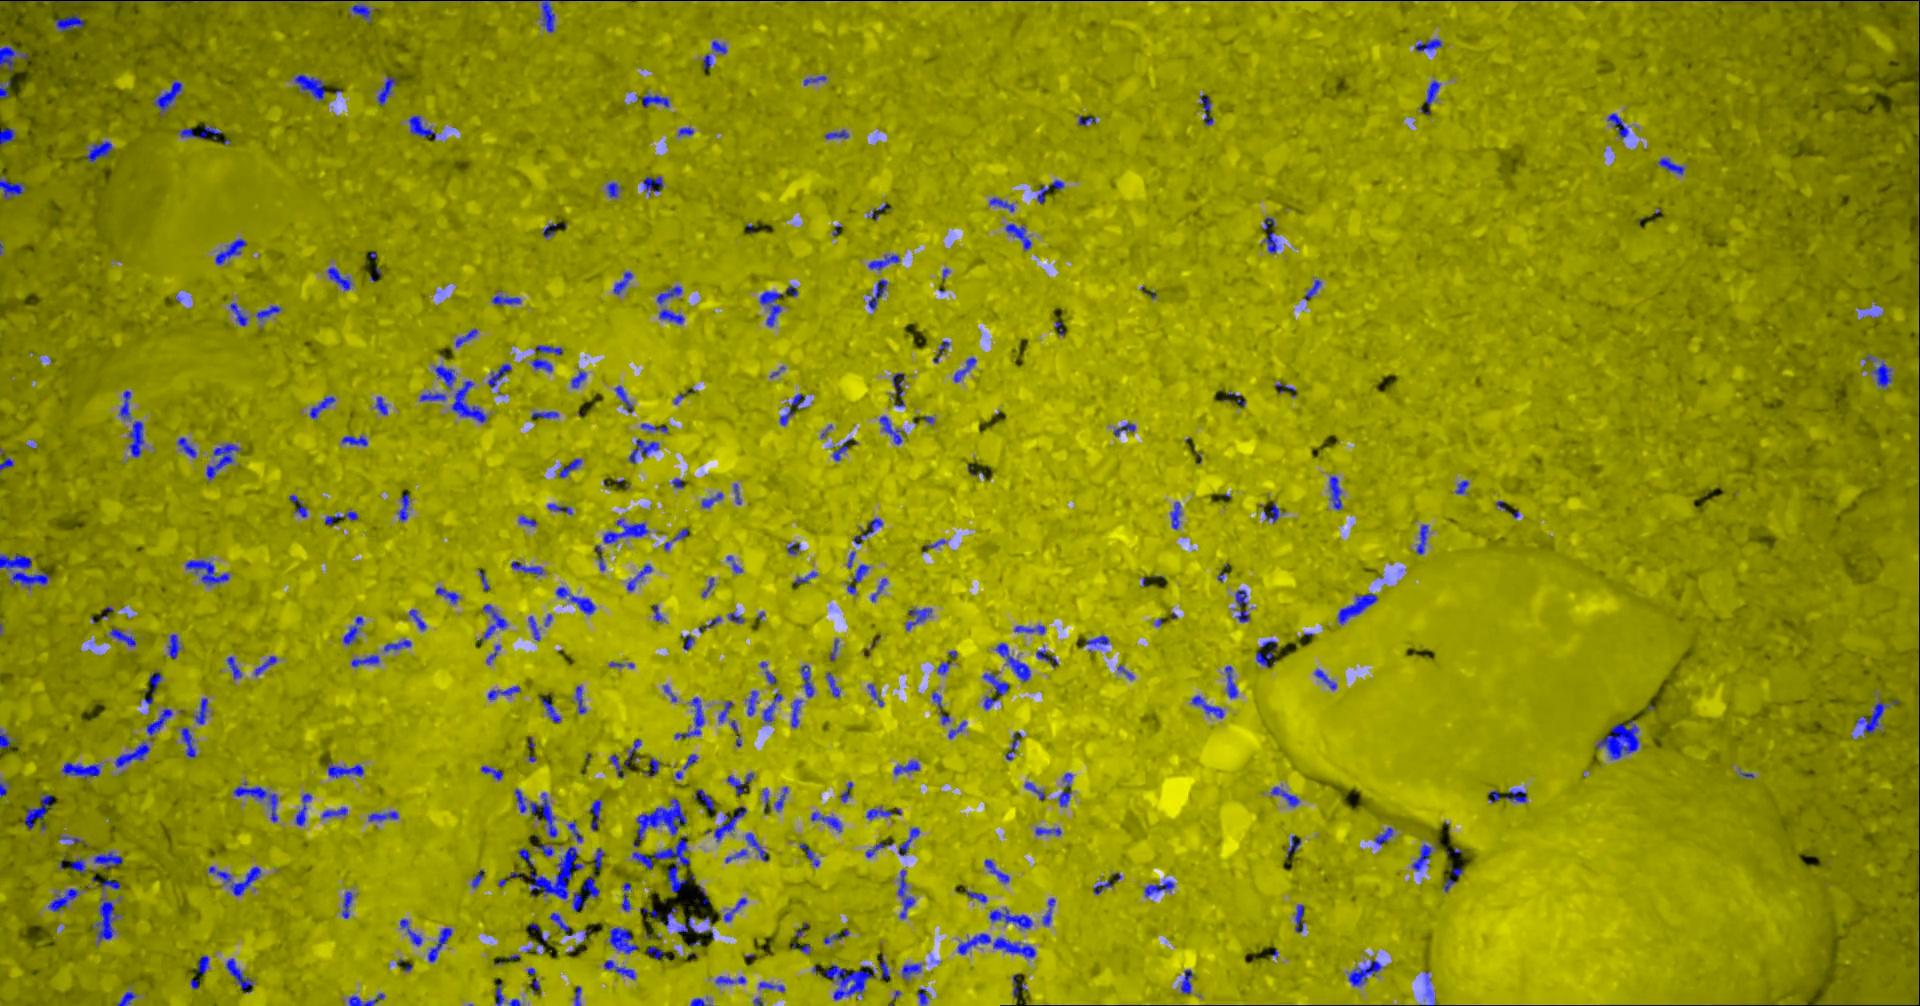ant: (632, 835, 691, 892), (531, 846, 584, 899), (516, 788, 559, 837), (637, 798, 687, 840), (823, 964, 876, 998), (234, 782, 279, 822), (959, 934, 1037, 956), (1, 553, 51, 588), (1597, 719, 1641, 760), (210, 866, 262, 895), (996, 641, 1032, 681), (453, 380, 488, 422), (1338, 592, 1379, 624), (676, 696, 706, 738), (207, 443, 240, 480), (187, 559, 231, 586), (93, 898, 119, 942), (604, 518, 651, 542), (715, 807, 748, 841), (557, 586, 597, 614), (25, 793, 55, 829), (1857, 701, 1890, 733), (155, 80, 184, 116), (483, 603, 509, 641), (574, 873, 601, 911), (761, 291, 787, 326), (116, 741, 151, 767), (990, 907, 1034, 929), (227, 958, 254, 992), (295, 72, 328, 99), (1350, 959, 1383, 986), (216, 238, 248, 264), (429, 927, 453, 962), (899, 869, 916, 918), (630, 438, 660, 464), (1192, 695, 1225, 718), (611, 926, 639, 953), (855, 517, 884, 542), (50, 888, 81, 911), (1, 46, 29, 71), (149, 708, 174, 735), (745, 832, 770, 861), (629, 563, 654, 589), (329, 760, 364, 779), (604, 959, 637, 979), (881, 415, 904, 445), (1422, 80, 1441, 114), (1007, 224, 1032, 249), (811, 810, 843, 831), (86, 140, 114, 163), (728, 772, 756, 795), (933, 691, 952, 724), (63, 761, 102, 777), (985, 859, 1011, 883), (410, 116, 437, 138), (907, 607, 933, 630), (1272, 786, 1302, 807), (145, 671, 163, 704), (329, 265, 353, 290), (489, 363, 513, 387), (378, 75, 397, 105), (984, 672, 1010, 695), (1, 178, 28, 199), (1257, 640, 1279, 667), (401, 918, 423, 945), (344, 616, 364, 644), (900, 827, 921, 855), (130, 420, 145, 457), (870, 279, 889, 309), (764, 692, 783, 721), (725, 897, 748, 921), (551, 912, 575, 935), (1609, 113, 1630, 138), (955, 357, 977, 382), (311, 396, 337, 418), (56, 13, 86, 30), (1873, 361, 1893, 387), (182, 126, 223, 138), (1059, 772, 1074, 807), (95, 851, 124, 869), (542, 697, 563, 723), (110, 627, 137, 647), (1413, 843, 1432, 870), (869, 254, 902, 269), (1236, 589, 1251, 622), (297, 793, 312, 826), (436, 365, 457, 387), (801, 842, 822, 866), (658, 285, 683, 304), (1490, 789, 1528, 801), (1007, 730, 1023, 760), (1423, 970, 1437, 1005), (616, 385, 634, 412), (1316, 668, 1338, 688), (182, 727, 197, 757), (1145, 880, 1176, 895), (1658, 158, 1686, 174), (1330, 476, 1343, 509), (512, 561, 545, 575), (1225, 666, 1239, 699), (489, 685, 521, 699), (626, 738, 643, 765), (833, 438, 853, 460), (615, 271, 634, 293), (560, 459, 583, 478), (290, 494, 309, 517), (1037, 647, 1060, 666), (257, 655, 279, 674), (696, 788, 715, 810), (869, 807, 903, 819), (803, 664, 815, 697), (178, 437, 198, 457), (352, 3, 373, 22), (231, 302, 249, 325), (61, 857, 88, 873), (350, 993, 386, 1005), (543, 0, 556, 32), (639, 94, 670, 107), (894, 372, 905, 406), (1201, 94, 1214, 124), (660, 307, 686, 323), (827, 671, 842, 696), (590, 799, 603, 829), (867, 842, 893, 857), (644, 177, 665, 194), (457, 328, 479, 345), (872, 578, 889, 601), (437, 587, 460, 603), (1087, 635, 1110, 652), (761, 661, 777, 683), (869, 683, 885, 706), (196, 697, 210, 724), (119, 390, 132, 419), (258, 305, 282, 320), (1305, 279, 1323, 300), (935, 340, 951, 362), (410, 608, 427, 630), (990, 197, 1016, 211), (385, 639, 413, 652), (895, 760, 921, 774), (1044, 897, 1057, 925), (1416, 38, 1443, 51), (399, 493, 411, 520), (949, 720, 968, 738), (825, 929, 850, 942), (1015, 973, 1029, 997), (1026, 782, 1046, 799), (493, 293, 522, 305), (1418, 525, 1430, 554), (483, 765, 504, 780), (569, 821, 584, 842), (966, 887, 988, 902), (1016, 624, 1048, 634), (169, 633, 182, 658), (353, 654, 381, 666), (229, 655, 243, 678), (577, 685, 588, 713), (611, 754, 625, 777), (1288, 835, 1302, 857), (343, 890, 354, 918), (645, 757, 662, 776), (1375, 827, 1394, 843), (679, 916, 698, 932), (903, 963, 922, 979), (703, 492, 724, 507), (1265, 502, 1280, 522), (370, 810, 400, 821), (795, 572, 819, 584), (776, 786, 789, 810), (343, 434, 370, 446), (323, 807, 349, 818), (1265, 231, 1279, 253), (1115, 422, 1137, 436), (720, 700, 734, 721), (728, 848, 749, 862), (530, 615, 541, 640), (536, 344, 564, 354), (1172, 500, 1182, 528), (792, 699, 803, 727), (648, 945, 668, 959), (117, 991, 137, 1005), (549, 503, 573, 514), (1182, 969, 1194, 993), (728, 555, 744, 572), (1, 127, 17, 145), (573, 370, 588, 387), (855, 564, 870, 582), (759, 981, 786, 991), (781, 406, 795, 426), (1095, 880, 1114, 894), (623, 882, 632, 911), (717, 976, 747, 984), (533, 358, 554, 371), (749, 690, 759, 715), (842, 781, 855, 801), (535, 843, 555, 856), (102, 878, 122, 890), (1037, 185, 1051, 203), (521, 847, 535, 865), (643, 423, 669, 432), (1297, 904, 1305, 931), (805, 75, 828, 85), (608, 182, 623, 197), (881, 955, 891, 978), (376, 396, 389, 414), (1037, 826, 1063, 835), (472, 869, 485, 887), (596, 847, 606, 869), (198, 955, 210, 974), (825, 130, 850, 138), (712, 39, 728, 53), (543, 222, 557, 238), (792, 392, 806, 408), (985, 695, 1001, 709), (521, 514, 538, 526), (1, 457, 15, 471), (422, 392, 447, 400), (1, 729, 11, 748), (497, 983, 505, 1005), (654, 605, 665, 621), (729, 611, 745, 622), (918, 988, 930, 1005), (532, 412, 560, 418), (1457, 480, 1470, 493), (938, 661, 951, 674), (674, 528, 690, 540), (683, 634, 695, 649), (1079, 116, 1097, 124), (703, 53, 714, 69), (575, 984, 583, 1005), (692, 997, 712, 1005), (789, 542, 801, 554), (679, 127, 695, 135), (51, 0, 130, 1)
